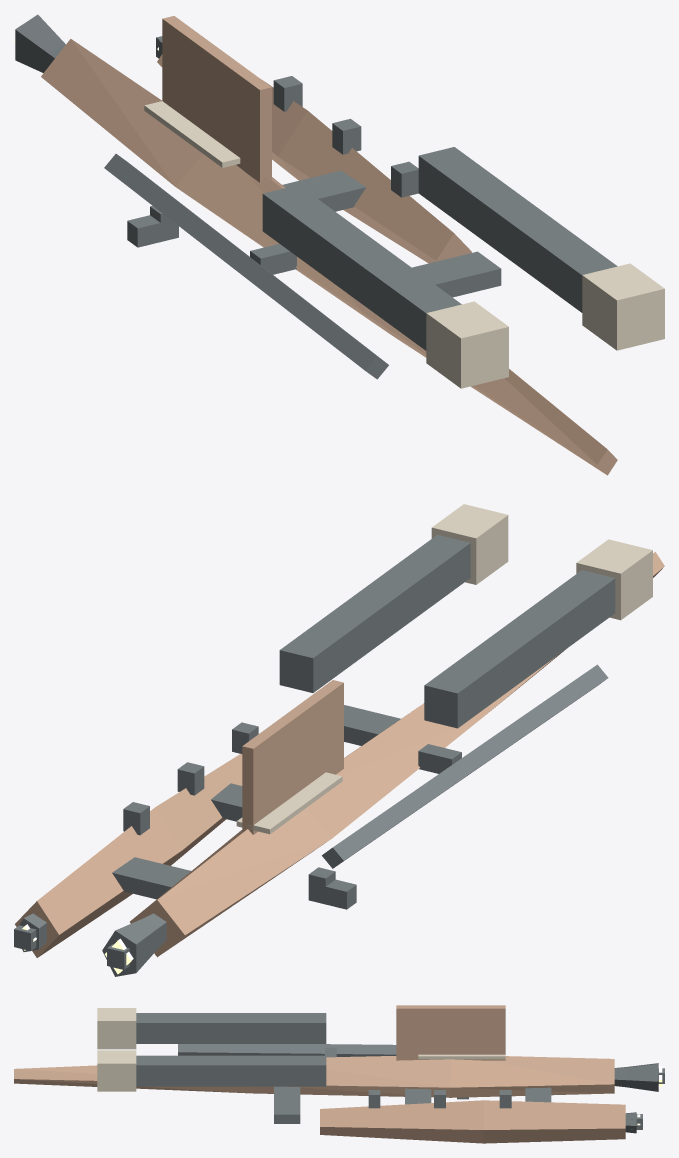
The picture shows the model from 3 angles, top to bottom: view 1: azimuth 30°, elevation 25°; view 2: azimuth 150°, elevation 25°; view 3: azimuth 270°, elevation 25°; orthographic projection. The views are drawn at different scales.
Bounding box in the file's own units: 5.89 × 4.25 × 24.14.
